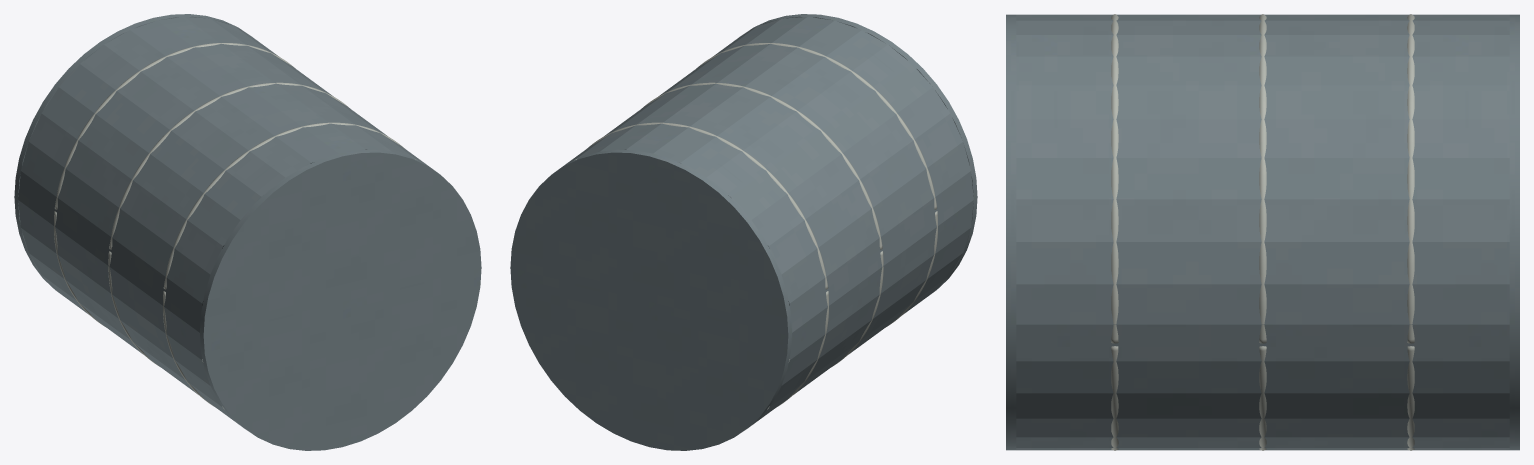
Rendered from bishop.glb.
3 renders of one model, left to right at view 1: azimuth 30°, elevation 25°; view 2: azimuth 150°, elevation 25°; view 3: azimuth 270°, elevation 25°, orthographic. The views are drawn at different scales.
Parts seen in each view (by area): view 1: bishop_detailed; view 2: bishop_detailed; view 3: bishop_detailed.
Part boxes in pixels (x1,y1,x2,y2): bishop_detailed: [14, 14, 481, 450]; bishop_detailed: [510, 14, 977, 450]; bishop_detailed: [1006, 14, 1519, 450].
Bounding box in the file's own units: 2.13 × 2.13 × 2.5.
Materials: 5 (3 with a texture image).
